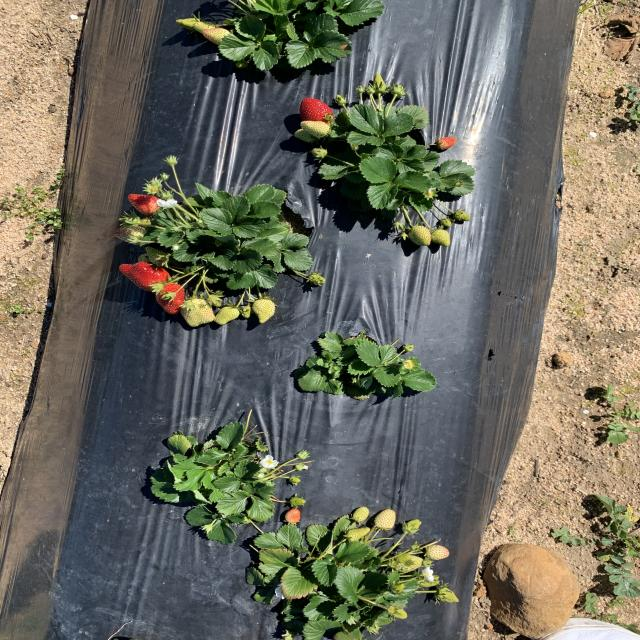unripe: (116, 260, 173, 292), (156, 282, 183, 314), (300, 96, 332, 121), (127, 194, 164, 215)
